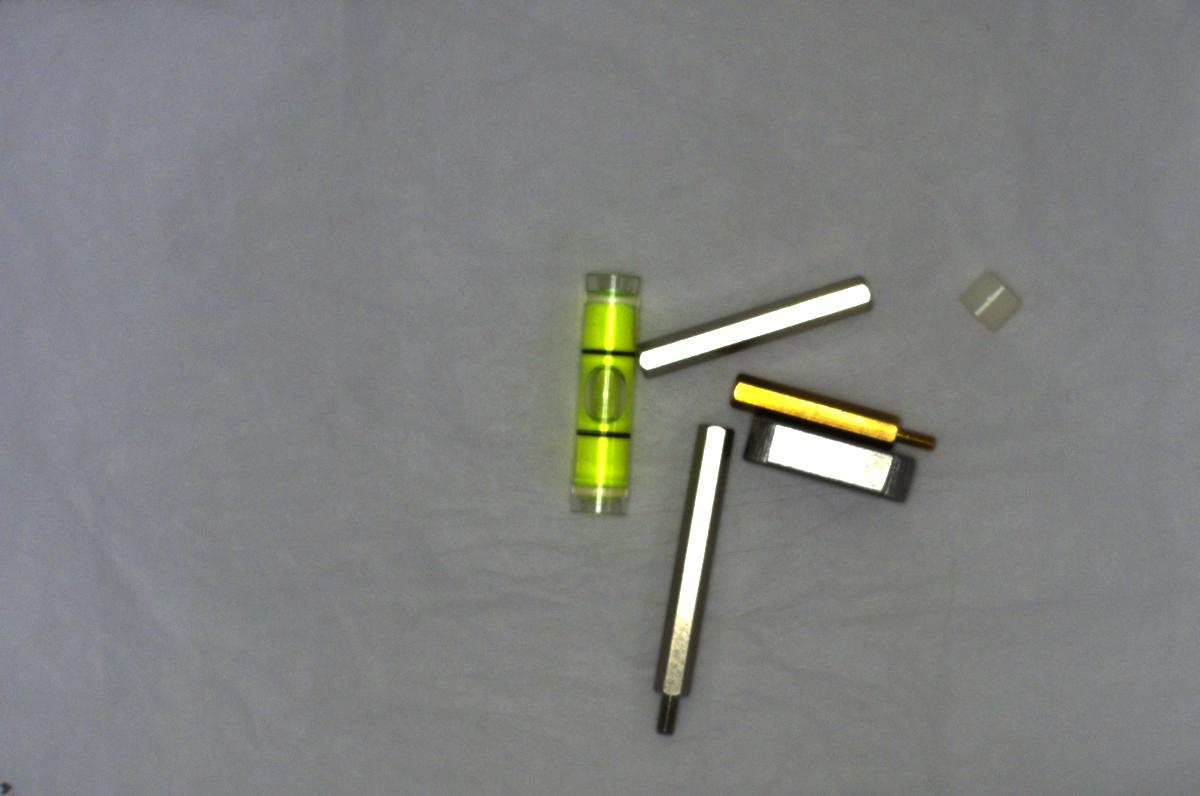Double hexagonal column: (625, 273, 887, 382)
Hexagon pillar: (723, 368, 947, 455)
Hexagonal steel column: (642, 418, 743, 748)
Horizontal bubble: (560, 259, 650, 522)
Keybar: (733, 413, 929, 512)
Plastic cushion pillar: (952, 250, 1023, 335)
